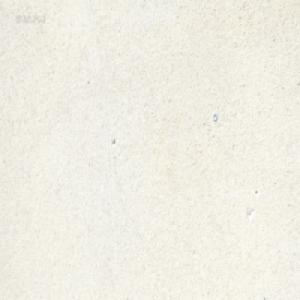Washer: (212, 111, 218, 122)
